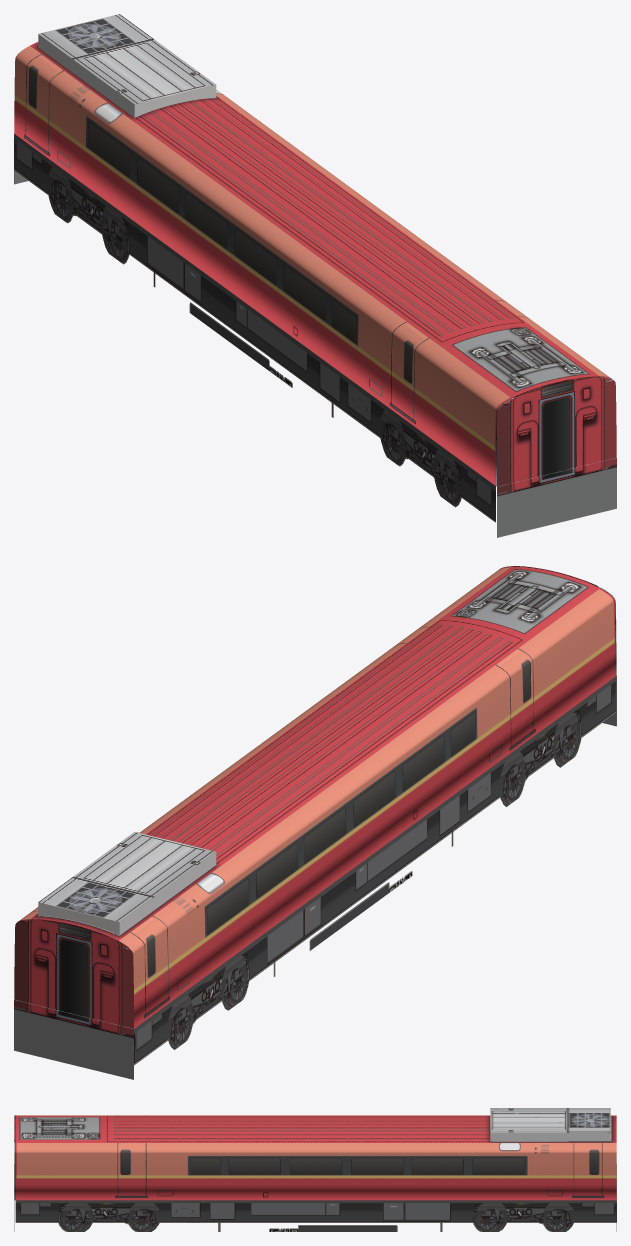
Rendered from car2.glb.
3 renders of one model, top to bottom at view 1: azimuth 30°, elevation 25°; view 2: azimuth 150°, elevation 25°; view 3: azimuth 270°, elevation 25°, orthographic. The views are drawn at different scales.
Visible parts, largest first — view 1: jr-east-e253-1000-car2; view 2: jr-east-e253-1000-car2; view 3: jr-east-e253-1000-car2.
Boxes of the visible parts, left/top/right/bottom form: jr-east-e253-1000-car2: left=14, top=14, right=616, bottom=537; jr-east-e253-1000-car2: left=14, top=566, right=616, bottom=1079; jr-east-e253-1000-car2: left=14, top=1108, right=616, bottom=1231.
Size of the model in its own units: 2.94 by 3.5 by 20.53.
Materials: 11 (9 with a texture image).
